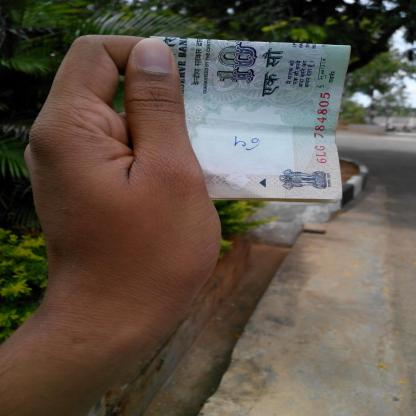Old100Front: (149, 37, 351, 204)
